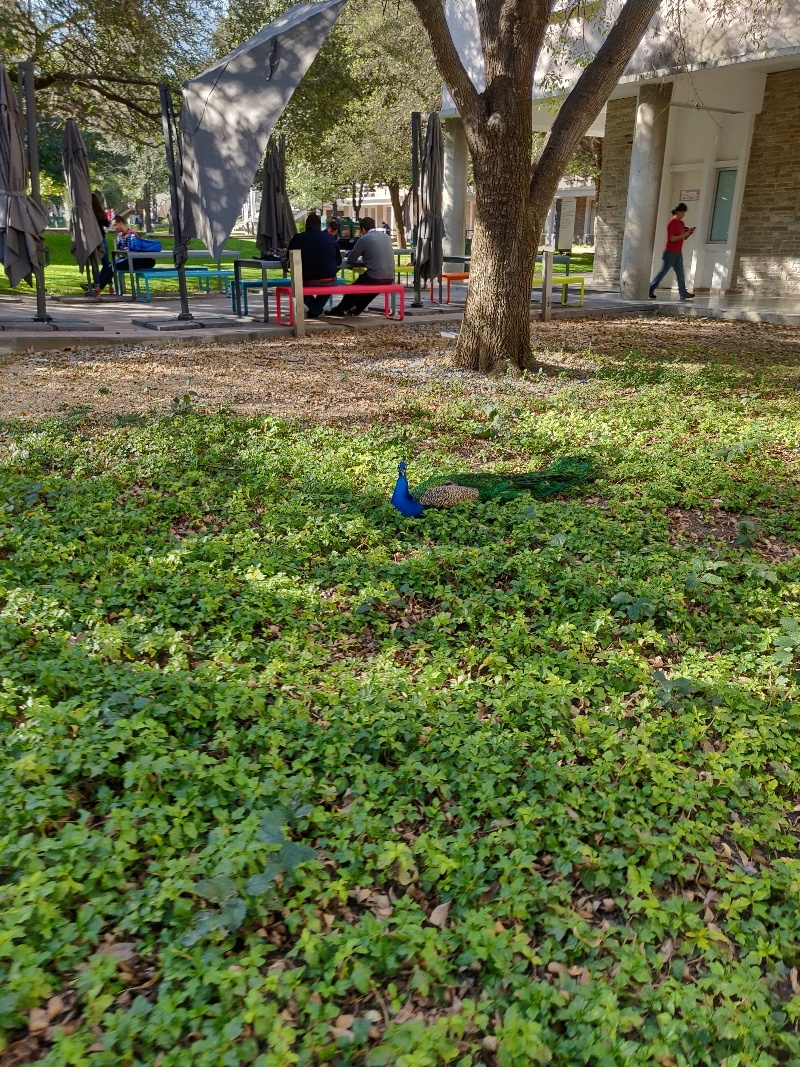pavoreal: (395, 461, 469, 514)
